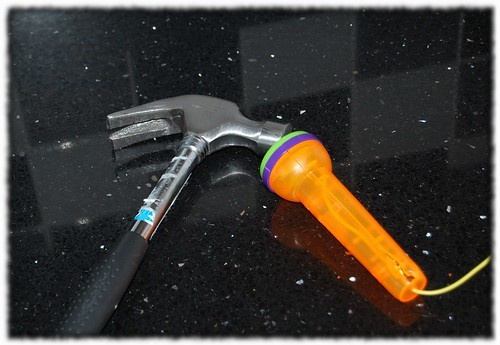hammer: (56, 94, 294, 345)
